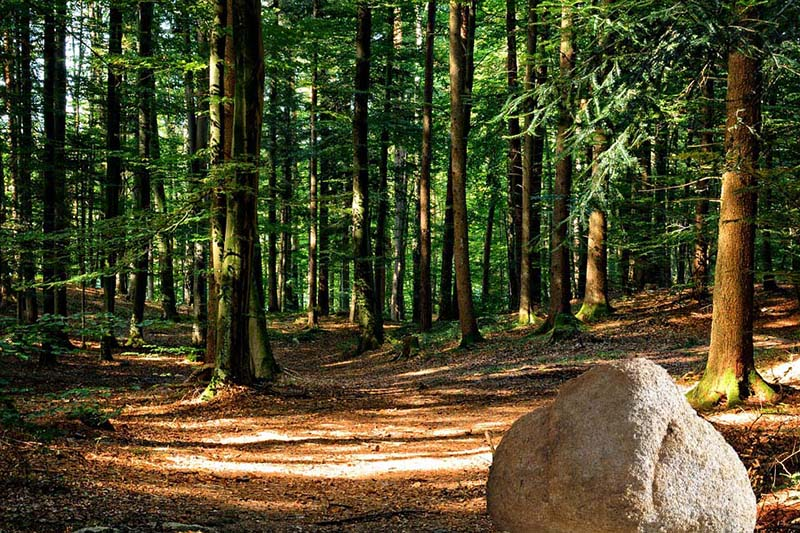Rocks: (478, 353, 764, 533)
